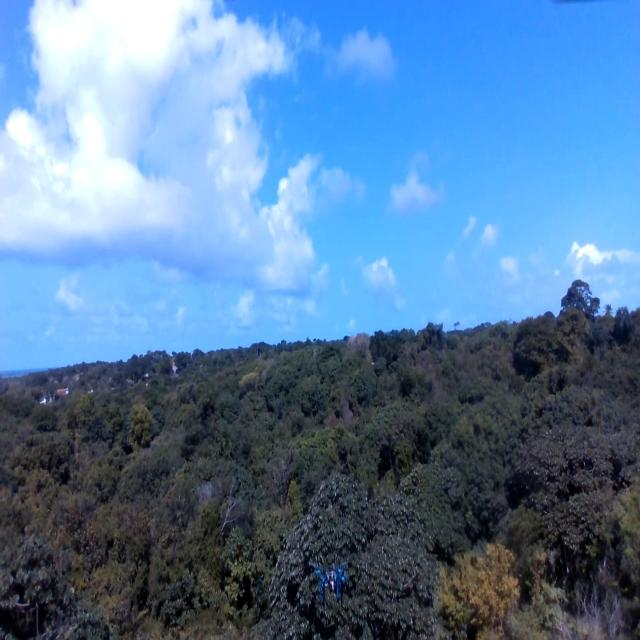-uav-: (310, 558, 355, 609)
